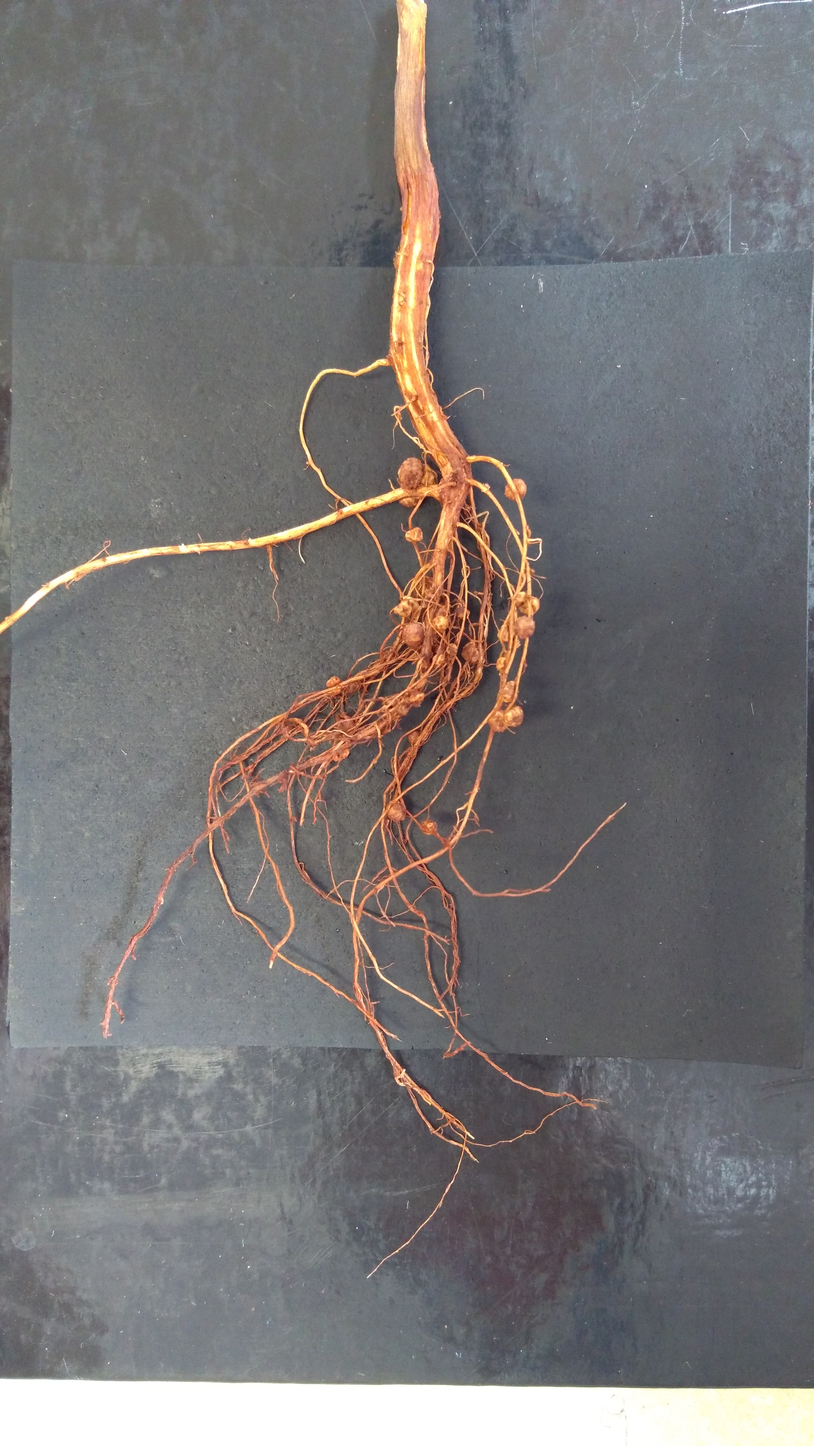nodule: (396, 457, 424, 490), (413, 575, 437, 607), (514, 591, 540, 615), (461, 641, 486, 665), (401, 622, 424, 648), (503, 478, 527, 502), (513, 616, 536, 640), (497, 623, 520, 647), (331, 737, 350, 763), (402, 595, 420, 622), (487, 711, 508, 733), (386, 800, 406, 822), (504, 705, 524, 727), (336, 713, 356, 732), (419, 463, 435, 485), (394, 599, 412, 618), (501, 681, 516, 702), (404, 527, 423, 543), (421, 819, 438, 835), (399, 495, 419, 508), (433, 615, 448, 632), (326, 676, 341, 689), (347, 681, 360, 695), (409, 691, 425, 702), (408, 731, 420, 745), (495, 657, 507, 671), (446, 642, 457, 657), (397, 705, 408, 717), (433, 653, 444, 664), (385, 699, 399, 707), (525, 525, 532, 539), (457, 606, 465, 618), (413, 701, 422, 707), (529, 568, 535, 573)
